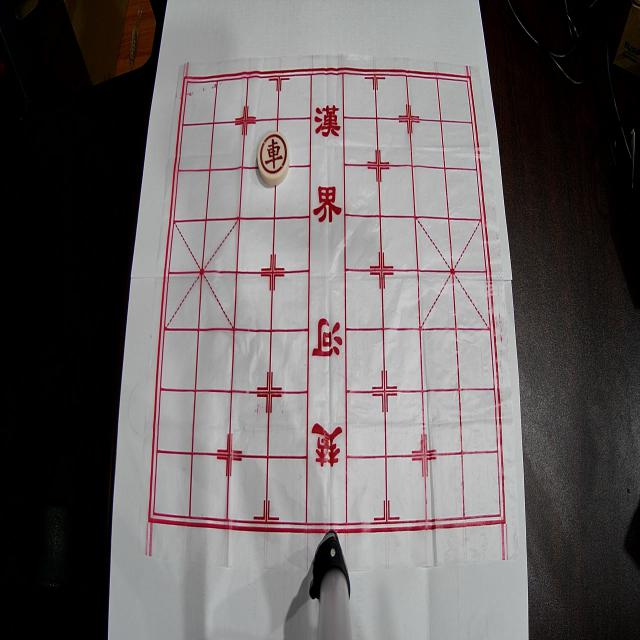red-chariot: (258, 130, 290, 186)
